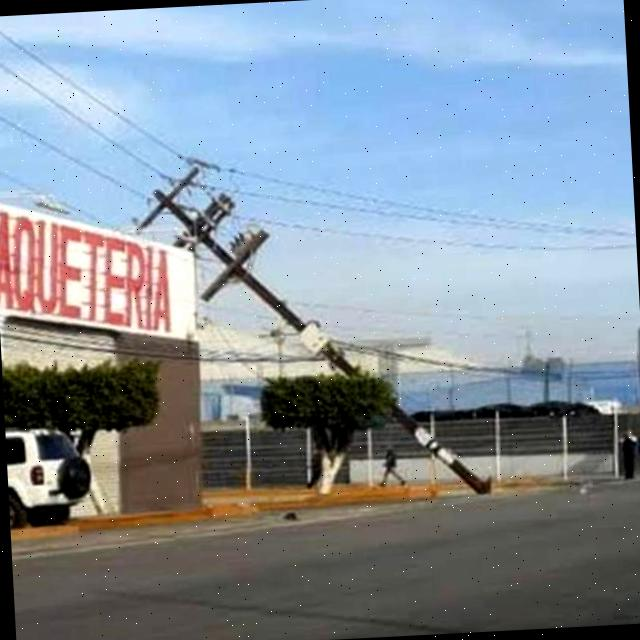Broken Pole: (123, 161, 497, 496)
